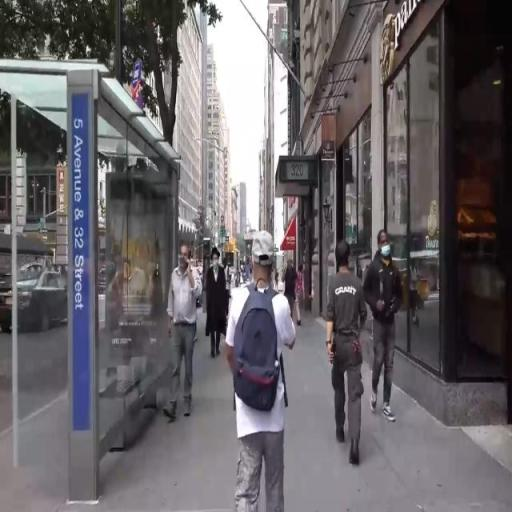person: (225, 223, 300, 512), (323, 237, 369, 474), (364, 215, 403, 438), (172, 243, 200, 426), (208, 243, 232, 362), (286, 252, 300, 328), (296, 260, 307, 317), (277, 266, 281, 292)
